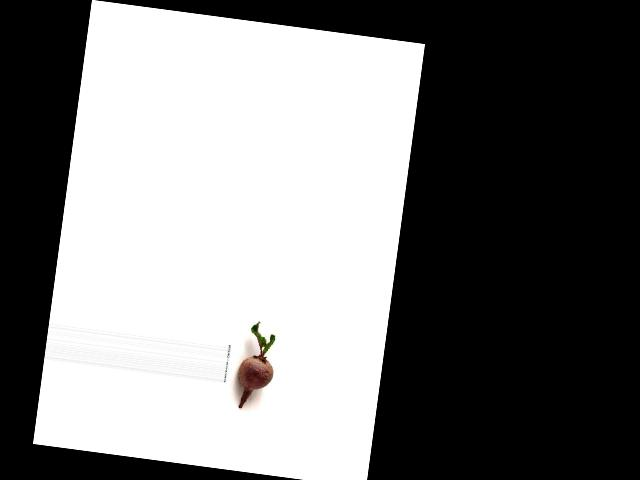beet: (233, 319, 279, 410)
